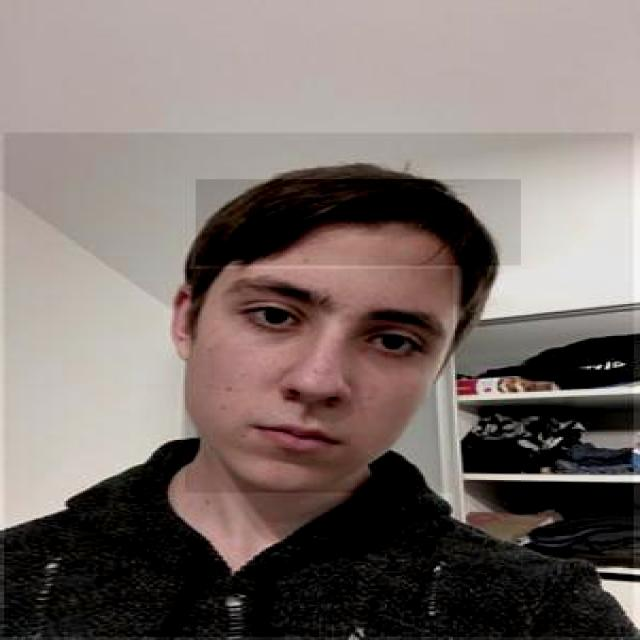face_nomask: (185, 269, 453, 493)
head_nohelmet: (196, 179, 521, 266)
person: (2, 133, 634, 638)
